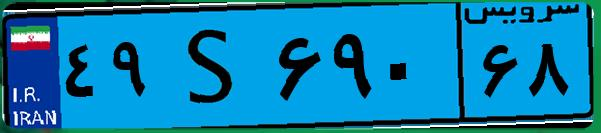0: (385, 28, 445, 110)
4: (57, 26, 110, 100)
6: (270, 28, 330, 110), (475, 38, 525, 113)
8: (525, 38, 570, 115)
9: (330, 28, 385, 110), (110, 28, 158, 98)
S: (158, 12, 270, 120)
